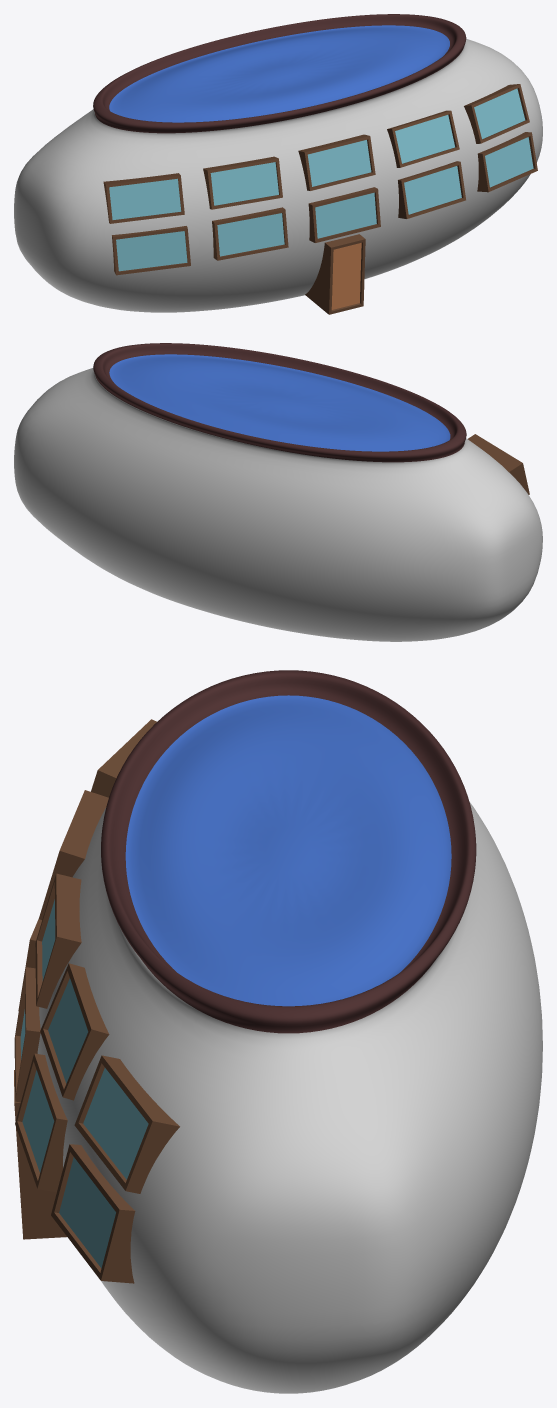
File: rundes_Gebaeude_V3_Mat.fbx
The picture shows the model from 3 angles, top to bottom: view 1: azimuth 30°, elevation 25°; view 2: azimuth 150°, elevation 25°; view 3: azimuth 270°, elevation 25°; orthographic projection. The views are drawn at different scales.
Parts seen in each view (by area): view 1: Subdivision_Surface; view 2: Subdivision_Surface; view 3: Subdivision_Surface.
Boxes of the visible parts, left/top/right/bottom form: Subdivision_Surface: left=14, top=14, right=542, bottom=314; Subdivision_Surface: left=14, top=343, right=542, bottom=641; Subdivision_Surface: left=14, top=670, right=542, bottom=1393.
Size of the model in its own units: 2023 by 802 by 950.
